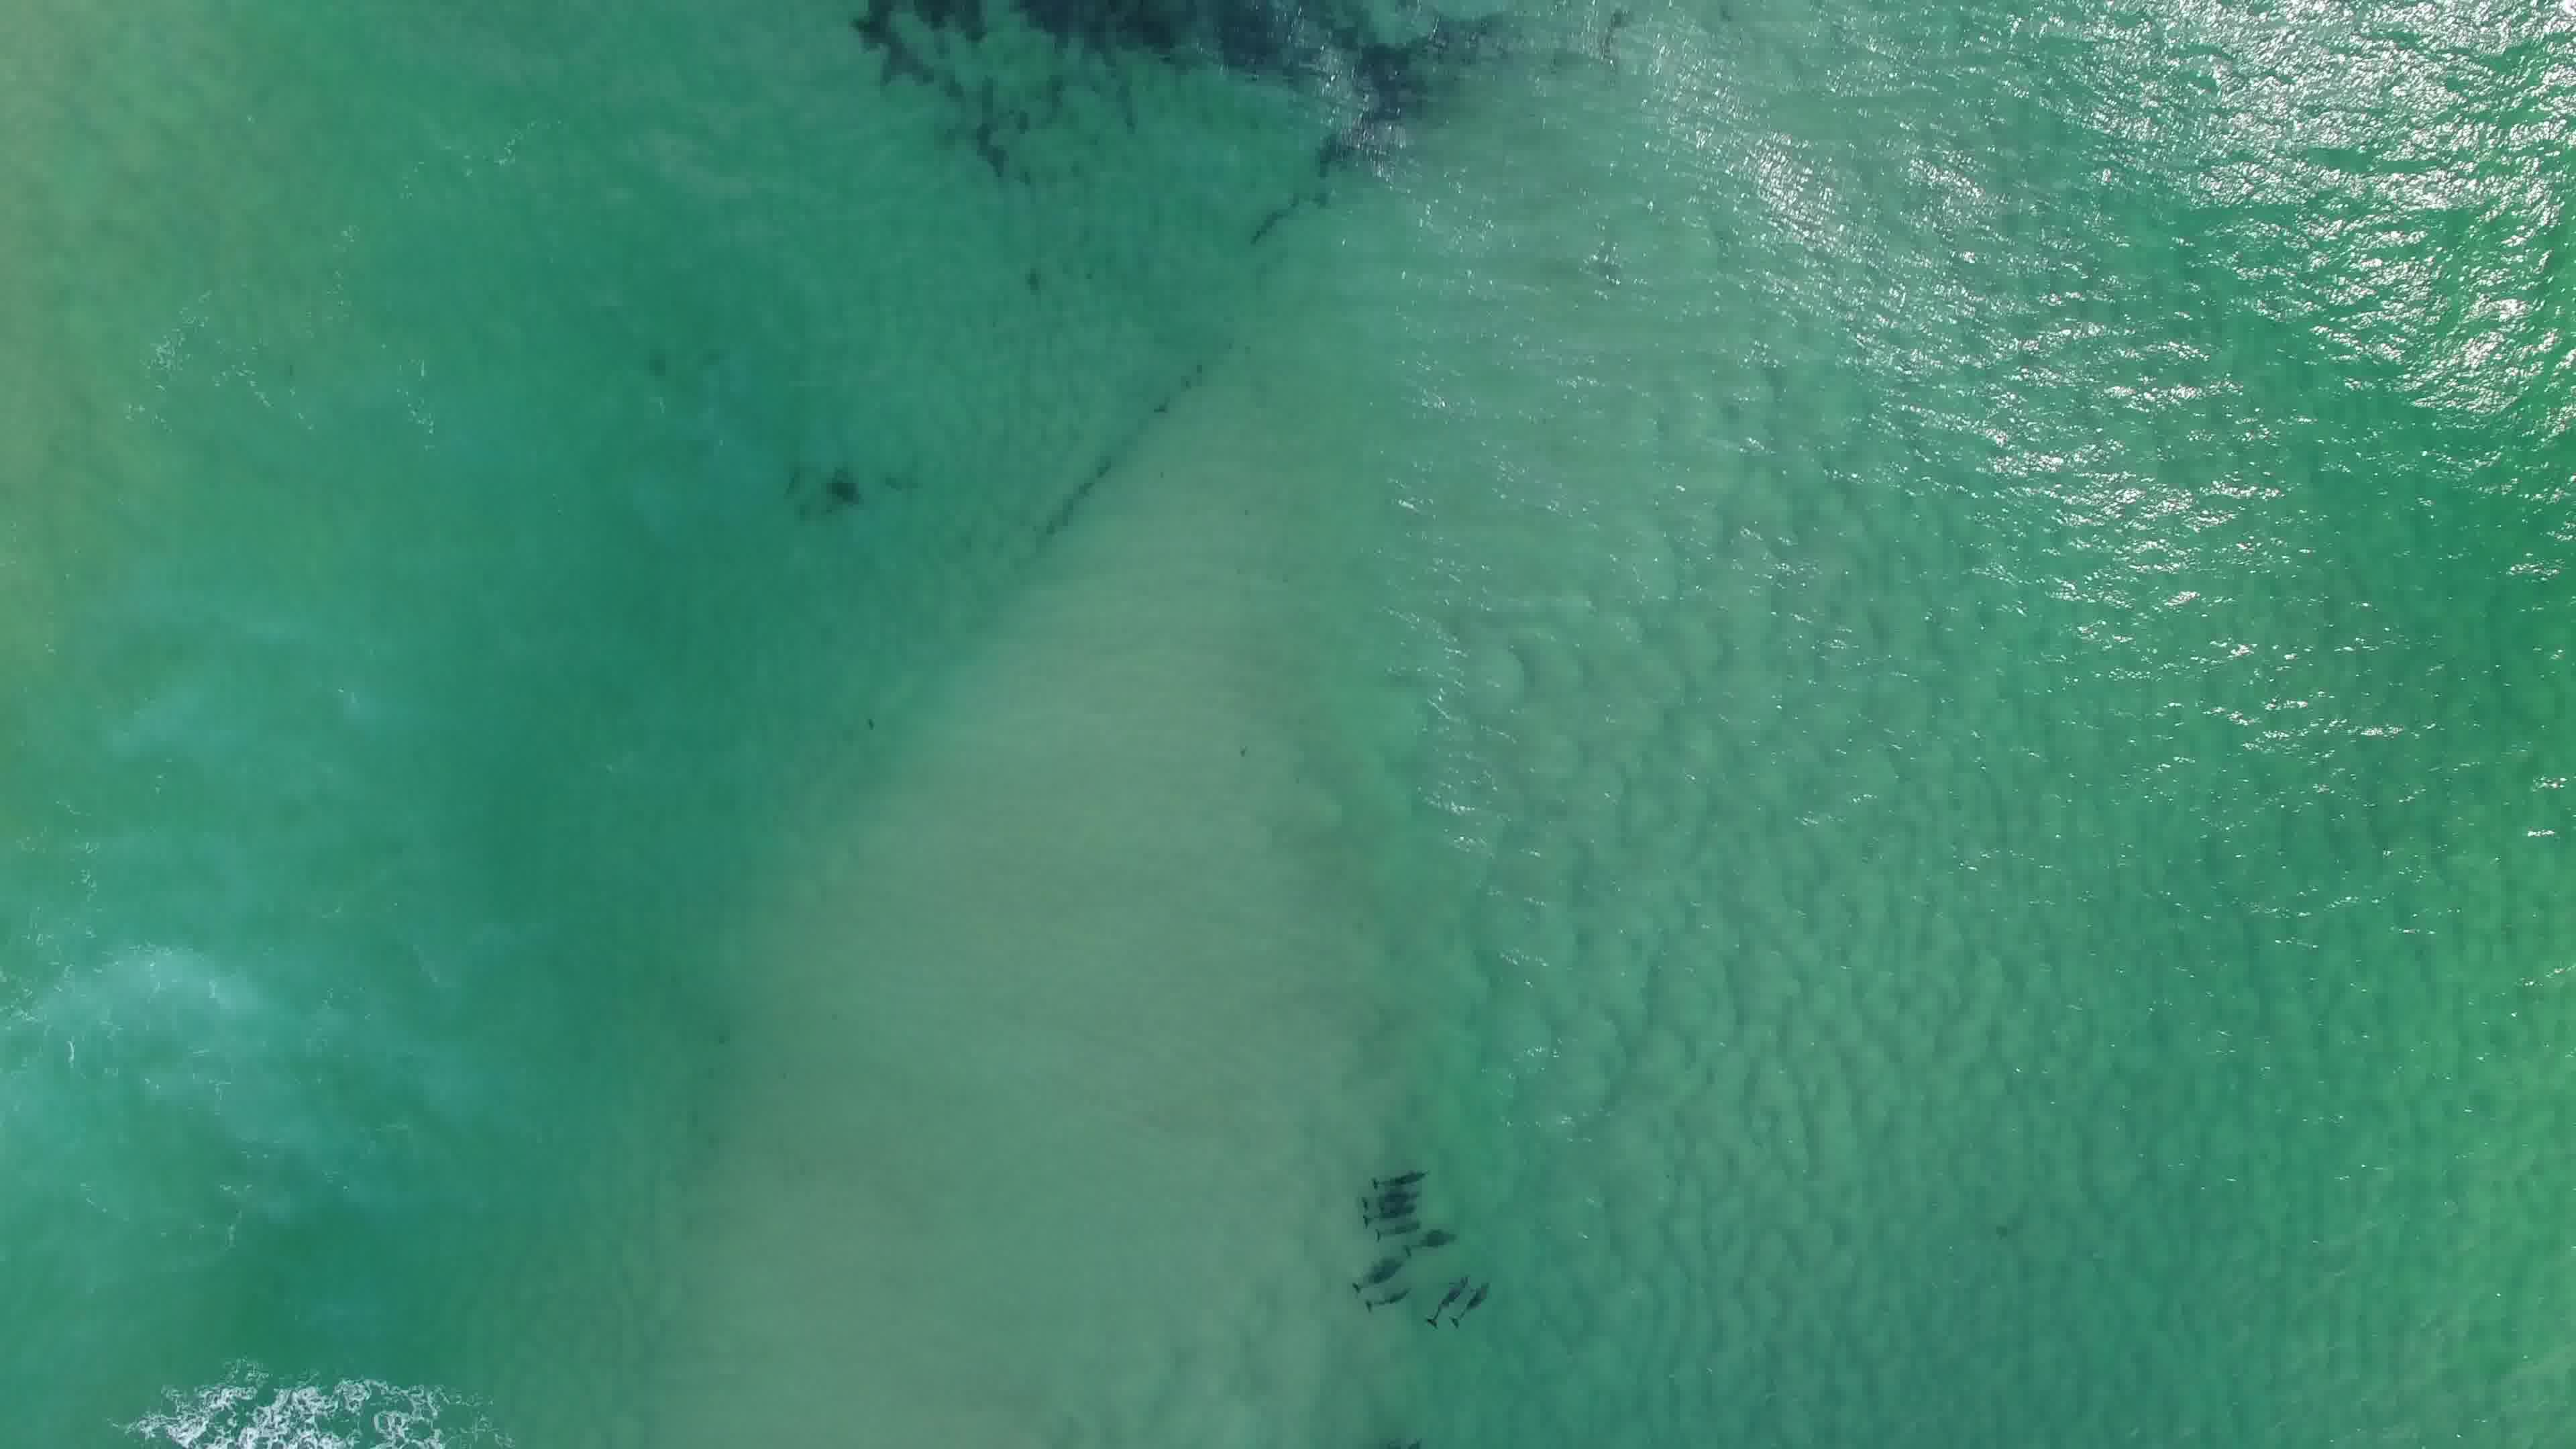dolphin: (1422, 1261, 1474, 1330), (1454, 1263, 1495, 1345), (1343, 1207, 1433, 1240), (1366, 1274, 1428, 1320), (1339, 1256, 1424, 1288), (1368, 1154, 1431, 1191), (1353, 1196, 1421, 1224), (1355, 1182, 1424, 1205)
